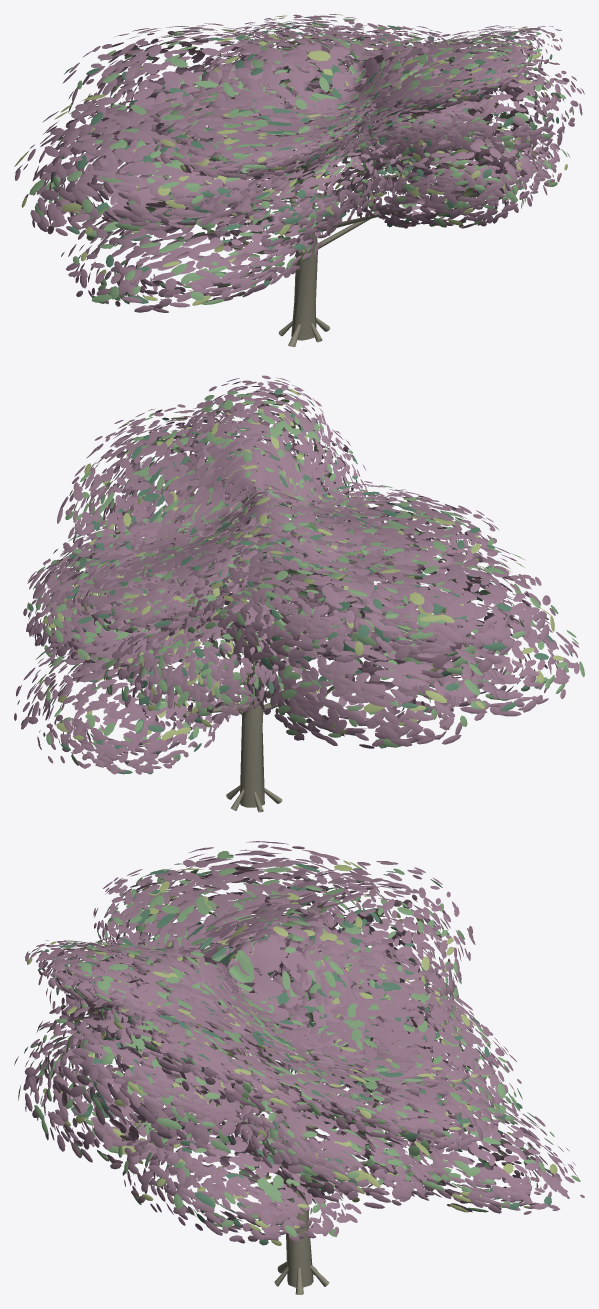
Rendered from grove_8.glb.
3 views of the same model, one above another, from view 1: azimuth 30°, elevation 25°; view 2: azimuth 150°, elevation 25°; view 3: azimuth 270°, elevation 25° (orthographic). The views are drawn at different scales.
Visible parts, largest first — view 1: study_canopy_2_StudyLeafPurple, study_canopy_2_StudyLeafJade, study_canopy_2_StudyLeafDeep, study_canopy_2_StudyLeafGold, study_canopy_2_StudyBark; view 2: study_canopy_2_StudyLeafPurple, study_canopy_2_StudyLeafJade, study_canopy_2_StudyLeafDeep, study_canopy_2_StudyLeafGold, study_canopy_2_StudyBark; view 3: study_canopy_2_StudyLeafPurple, study_canopy_2_StudyLeafJade, study_canopy_2_StudyLeafDeep, study_canopy_2_StudyLeafGold, study_canopy_2_StudyBark.
Part boxes in pixels (bbox=[...]): study_canopy_2_StudyLeafPurple: bbox=[14, 14, 584, 312]; study_canopy_2_StudyLeafJade: bbox=[29, 17, 573, 304]; study_canopy_2_StudyLeafDeep: bbox=[51, 17, 558, 303]; study_canopy_2_StudyLeafGold: bbox=[14, 14, 567, 305]; study_canopy_2_StudyBark: bbox=[162, 73, 468, 346]; study_canopy_2_StudyLeafPurple: bbox=[14, 375, 579, 774]; study_canopy_2_StudyLeafJade: bbox=[33, 384, 584, 769]; study_canopy_2_StudyLeafDeep: bbox=[17, 389, 572, 774]; study_canopy_2_StudyLeafGold: bbox=[27, 380, 564, 746]; study_canopy_2_StudyBark: bbox=[122, 439, 425, 812]; study_canopy_2_StudyLeafPurple: bbox=[14, 841, 584, 1243]; study_canopy_2_StudyLeafJade: bbox=[18, 851, 580, 1236]; study_canopy_2_StudyLeafDeep: bbox=[24, 863, 554, 1245]; study_canopy_2_StudyLeafGold: bbox=[27, 860, 557, 1245]; study_canopy_2_StudyBark: bbox=[128, 954, 448, 1294].
Size of the model in its own units: 15.12 by 9.56 by 13.01.
